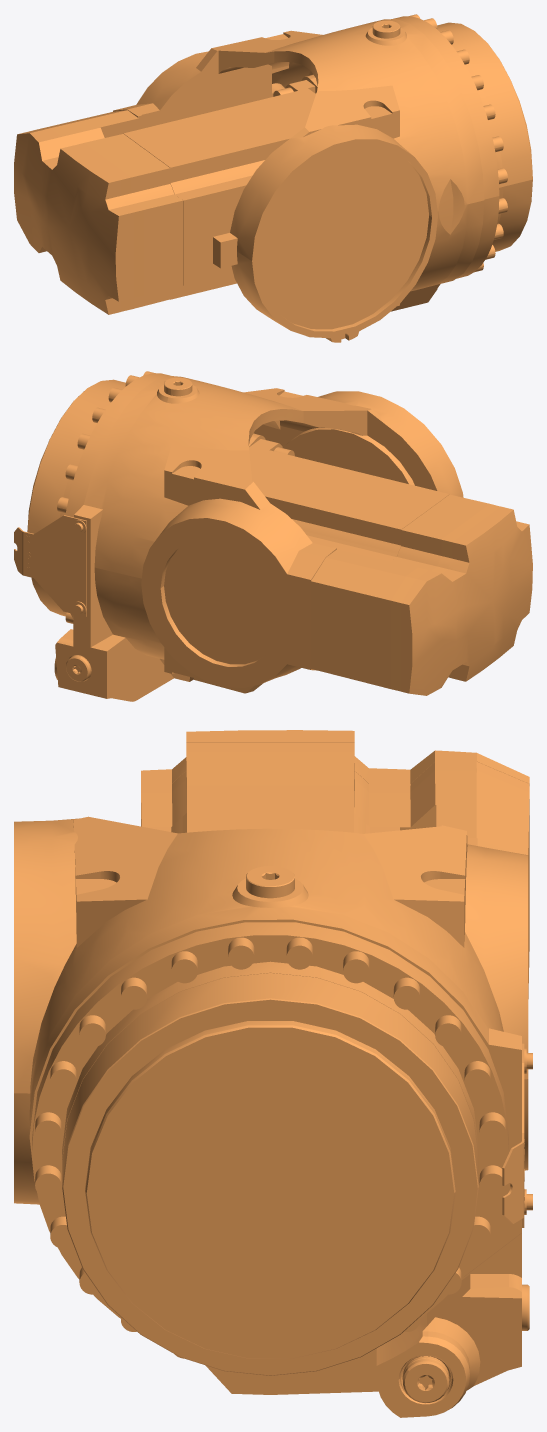
3 renders of one model, top to bottom at view 1: azimuth 30°, elevation 25°; view 2: azimuth 150°, elevation 25°; view 3: azimuth 270°, elevation 25°, orthographic. The views are drawn at different scales.
Parts seen in each view (by area): view 1: mesh_0; view 2: mesh_0; view 3: mesh_0.
Boxes of the visible parts, <box> form: mesh_0: <box>14,14,532,342</box>; mesh_0: <box>14,371,532,701</box>; mesh_0: <box>14,730,532,1417</box>.
Bounding box in the file's own units: 0.3219 × 0.21 × 0.2003.
